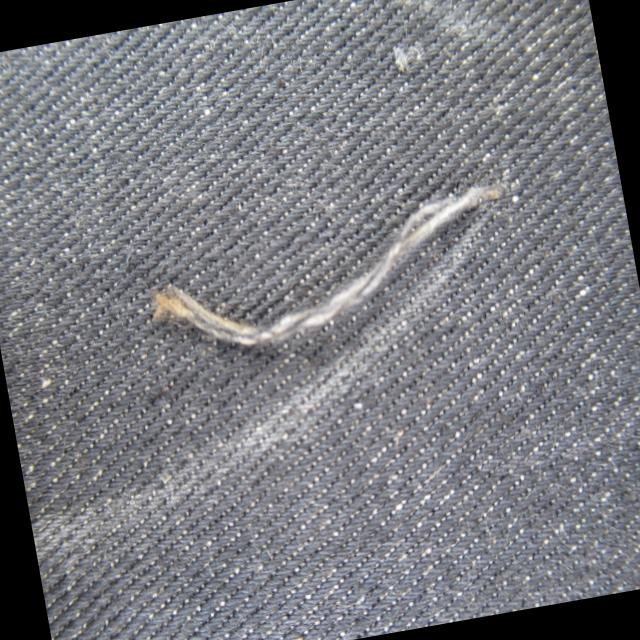selvet: (378, 170, 538, 272)
